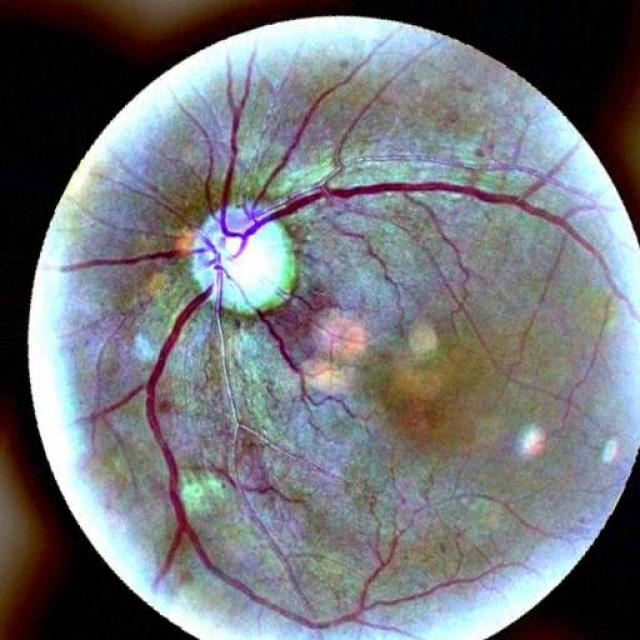Macula: (368, 371, 461, 455)
Nerves: (287, 174, 573, 217), (146, 303, 196, 539), (214, 89, 246, 197), (76, 246, 177, 280)
Optic Disk: (186, 196, 306, 330)
